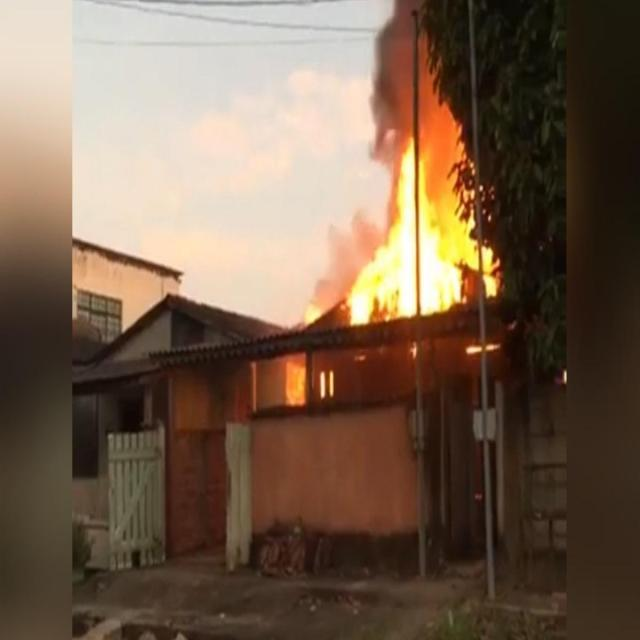Fire: (346, 133, 499, 327), (466, 342, 501, 356), (320, 370, 335, 400), (304, 302, 322, 326)
Smoke: (315, 2, 454, 312)
